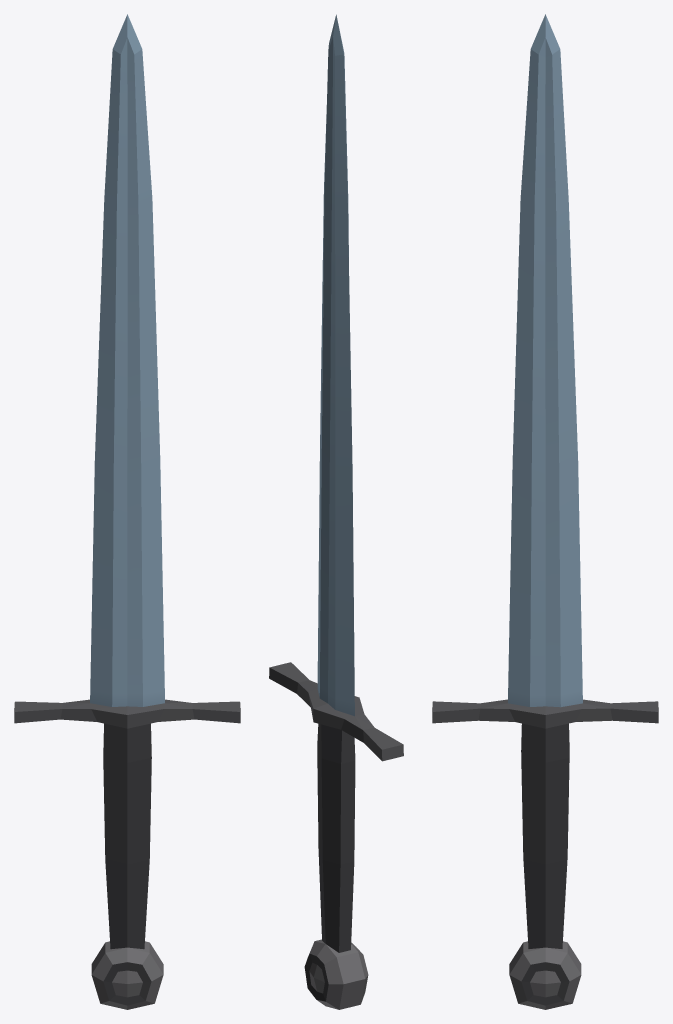
The model's file is Md_Prop_StraightSword_01.fbx.
The picture shows the model from 3 angles, left to right: view 1: azimuth 90°, elevation 25°; view 2: azimuth 210°, elevation 25°; view 3: azimuth 270°, elevation 25°; orthographic projection.
Parts seen in each view (by area): view 1: Md_Prop_StraightSword_01; view 2: Md_Prop_StraightSword_01; view 3: Md_Prop_StraightSword_01.
Boxes of the visible parts, box(x1,y1,x2,y2) form: Md_Prop_StraightSword_01: box(14, 14, 240, 1009); Md_Prop_StraightSword_01: box(269, 14, 403, 1009); Md_Prop_StraightSword_01: box(432, 14, 658, 1009).
Bounding box in the file's own units: 5.69 × 117 × 24.24.
Materials: 1 (1 with a texture image).
